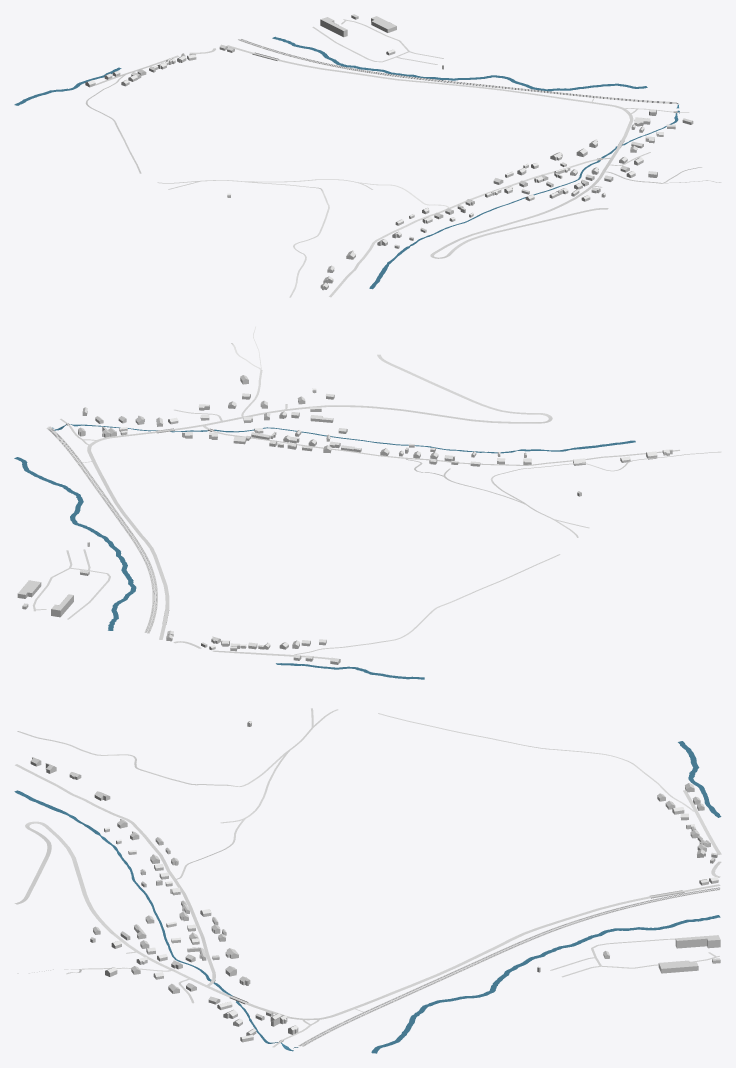
The model's file is objekty.glb.
3 renders of one model, top to bottom at view 1: azimuth 30°, elevation 25°; view 2: azimuth 150°, elevation 25°; view 3: azimuth 270°, elevation 25°, orthographic. The views are drawn at different scales.
Parts seen in each view (by area): view 1: Cesty_06_07, Budovy_06_07, Voda_06_07, Okna_Dvere_06_07; view 2: Cesty_06_07, Budovy_06_07, Voda_06_07, Okna_Dvere_06_07; view 3: Cesty_06_07, Budovy_06_07, Voda_06_07, Okna_Dvere_06_07, Kolajnice_06_07.
Part boxes in pixels (bbox=[...]): Cesty_06_07: bbox=[85, 19, 721, 297]; Budovy_06_07: bbox=[85, 14, 693, 290]; Voda_06_07: bbox=[14, 36, 679, 289]; Okna_Dvere_06_07: bbox=[87, 16, 690, 288]; Cesty_06_07: bbox=[32, 326, 721, 659]; Budovy_06_07: bbox=[17, 375, 672, 664]; Voda_06_07: bbox=[14, 424, 635, 679]; Okna_Dvere_06_07: bbox=[18, 378, 672, 663]; Cesty_06_07: bbox=[15, 708, 721, 1047]; Budovy_06_07: bbox=[30, 721, 720, 1042]; Voda_06_07: bbox=[14, 741, 721, 1053]; Okna_Dvere_06_07: bbox=[31, 724, 719, 1040]; Kolajnice_06_07: bbox=[300, 887, 719, 1045].
Size of the model in its own units: 1006 by 86.2 by 1007.
